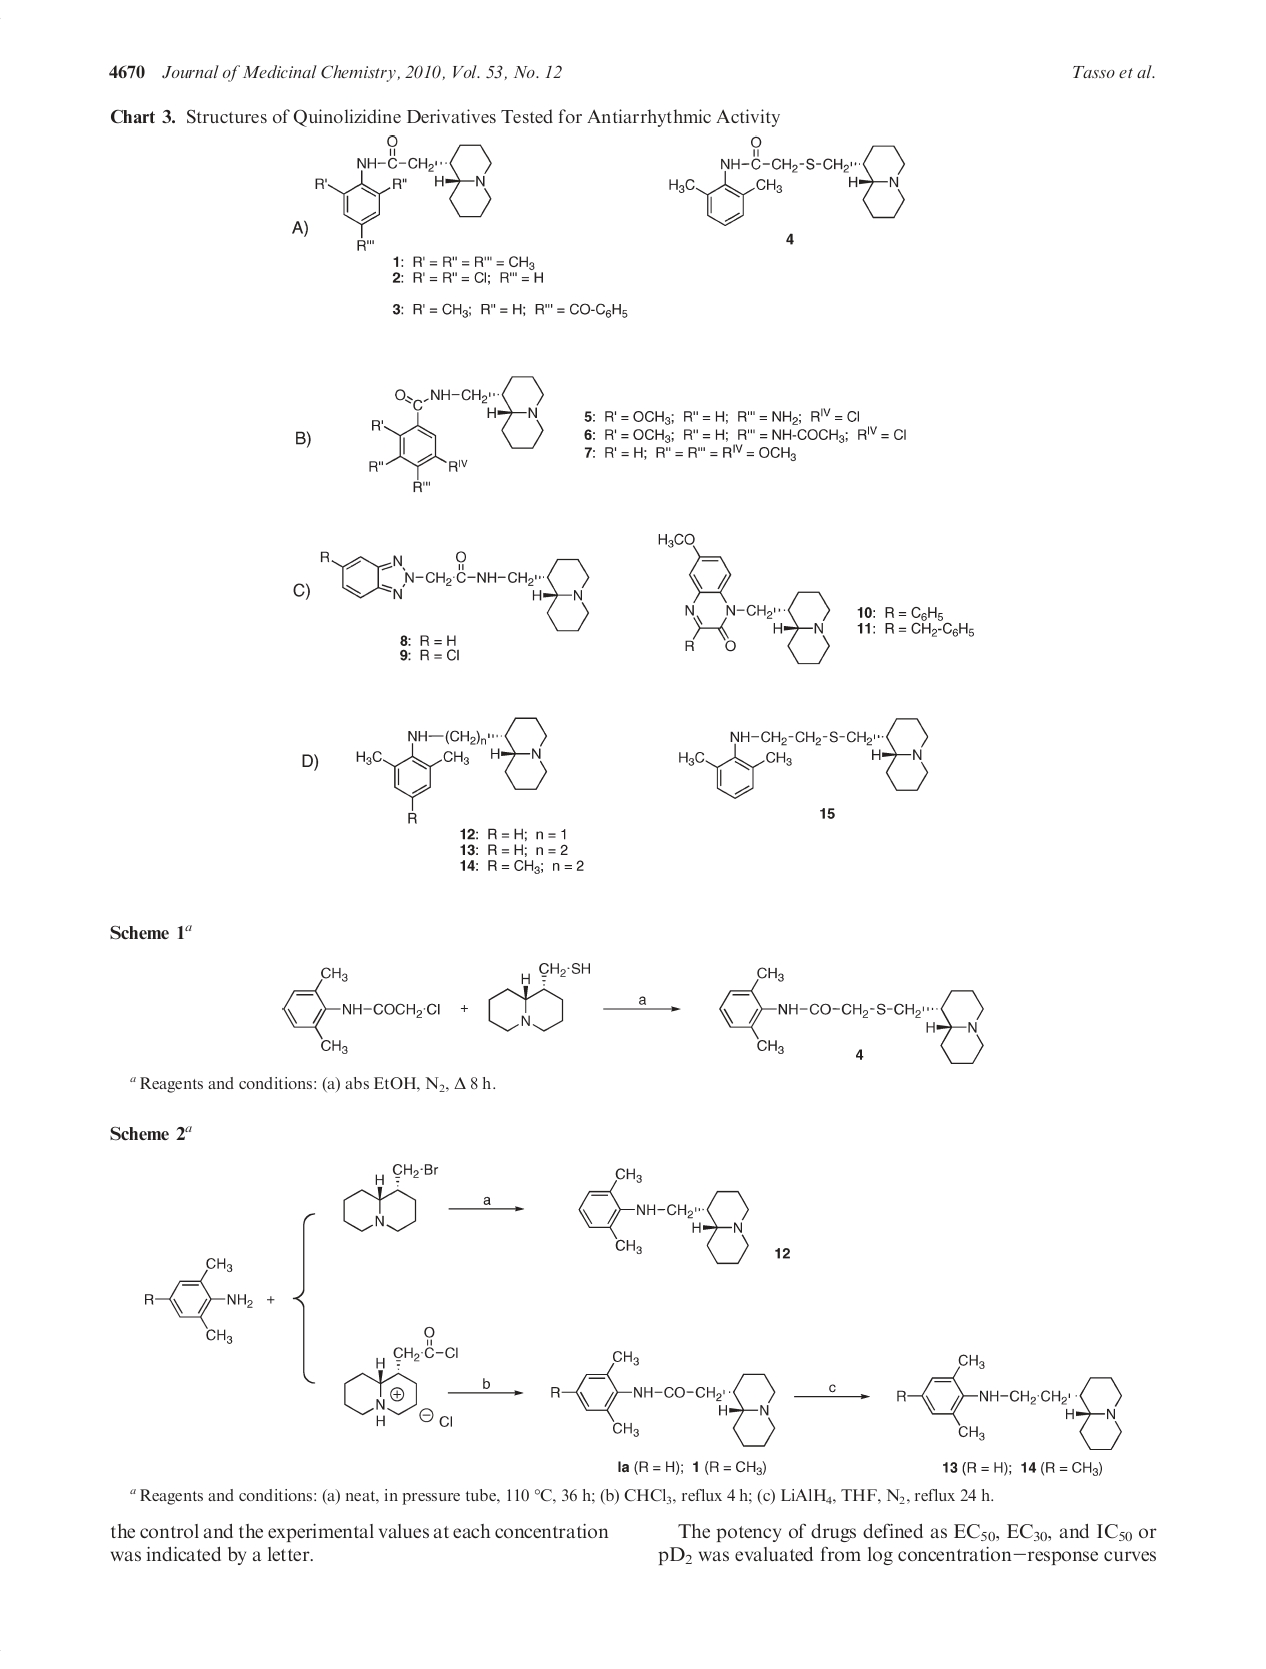exist_molecular: (721, 968, 985, 1065), (316, 545, 589, 634), (656, 529, 830, 668), (896, 1352, 1124, 1454), (676, 714, 930, 805), (551, 1348, 777, 1450), (352, 710, 551, 823), (666, 136, 910, 227), (367, 372, 545, 493), (315, 133, 495, 251), (576, 1166, 747, 1265), (282, 964, 444, 1057), (343, 1325, 460, 1428), (142, 1257, 255, 1345), (485, 956, 594, 1035), (342, 1161, 440, 1233)
